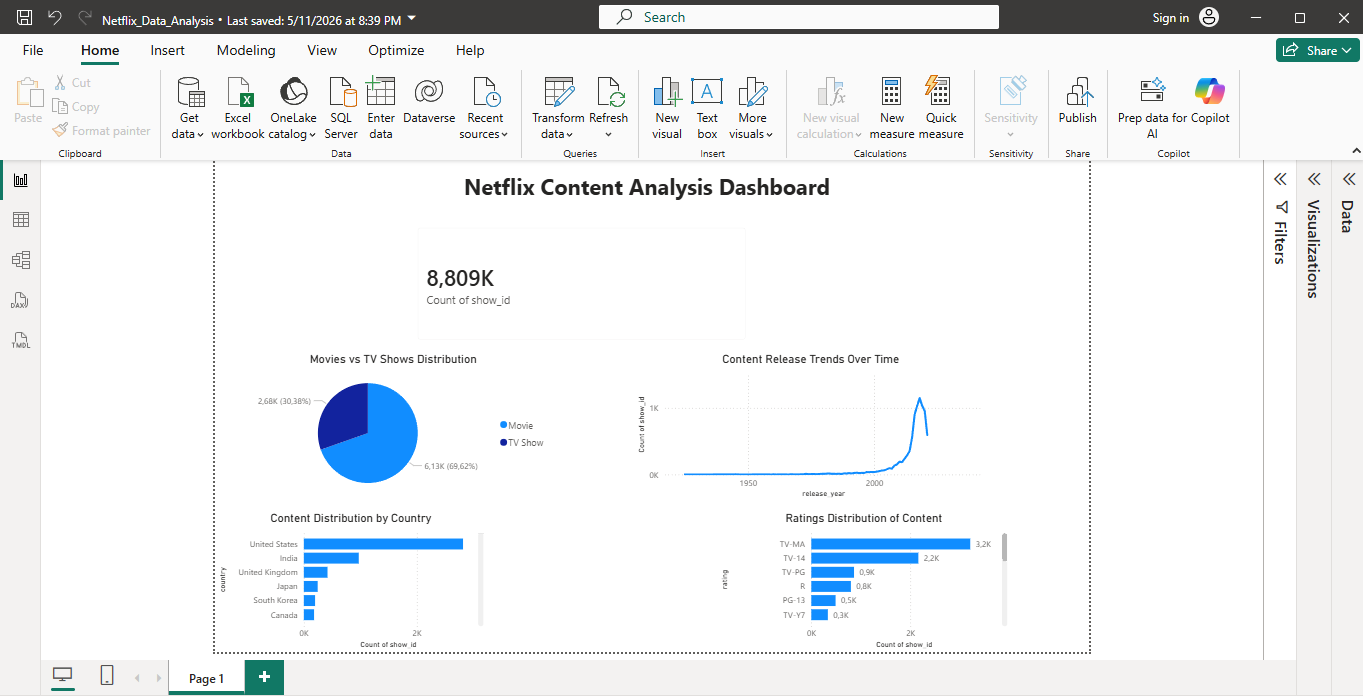

The dashboard page shown, as its layout file describes it:
{"tool":"powerbi","page":{"name":"Page 1","canvas":[1280,720],"ordinal":0},"visuals":[{"type":"cardVisual","fields":{"Data":["Count(netflix_titles.show_id)"]},"box":[278.8,82.3,514,198.2],"z":0},{"type":"pieChart","title":"Movies vs TV Shows Distribution","fields":{"Category":["netflix_titles.type"],"Y":["Count(netflix_titles.show_id)"]},"box":[26.9,280.5,468.7,218.4],"z":1000},{"type":"lineChart","title":"Content Release Trends Over Time","fields":{"Category":["netflix_titles.release_year"],"Y":["Count(netflix_titles.show_id)"]},"box":[613.1,280.5,517.4,218.4],"z":2000},{"type":"barChart","title":"Ratings Distribution of Content","fields":{"Category":["netflix_titles.rating"],"Y":["CountNonNull(netflix_titles.show_id)"]},"box":[734.1,514,430,206.6],"z":3000},{"type":"barChart","title":"Content Distribution by Country","fields":{"Category":["netflix_titles.country"],"Y":["CountNonNull(netflix_titles.show_id)"]},"box":[0,514,398.1,206.6],"z":4000},{"type":"textbox","box":[320.8,11.8,623.2,70.6],"z":4001}]}

Visuals, with their boxes on the page's 1280x720 design canvas (x1, y1, x2, y2). These are canvas units, not pixel positions in the 1363x696 screenshot, which may show the page scaled, cropped or inside an application window:
cardVisual - Count(netflix_titles.show_id): 279,82,793,280
"Movies vs TV Shows Distribution" pieChart: 27,280,496,499
"Content Release Trends Over Time" lineChart: 613,280,1130,499
"Ratings Distribution of Content" barChart: 734,514,1164,721
"Content Distribution by Country" barChart: 0,514,398,721
textbox: 321,12,944,82
